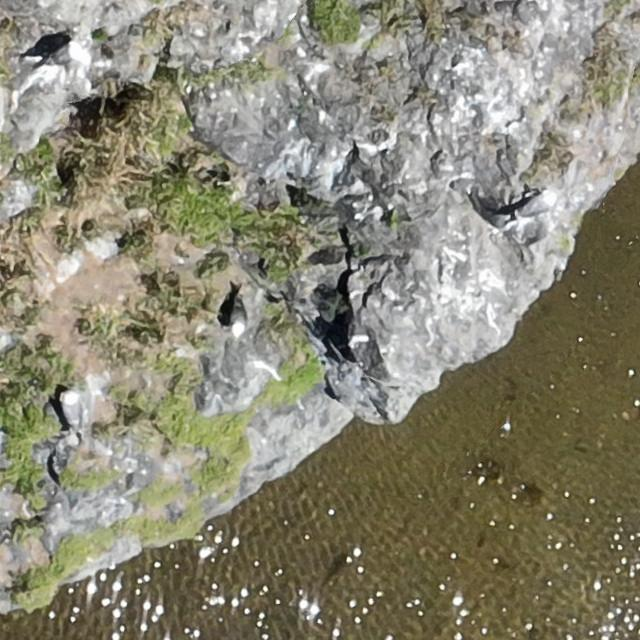umineko: (510, 190, 558, 225), (46, 40, 84, 70), (60, 394, 76, 427), (231, 302, 246, 334)
